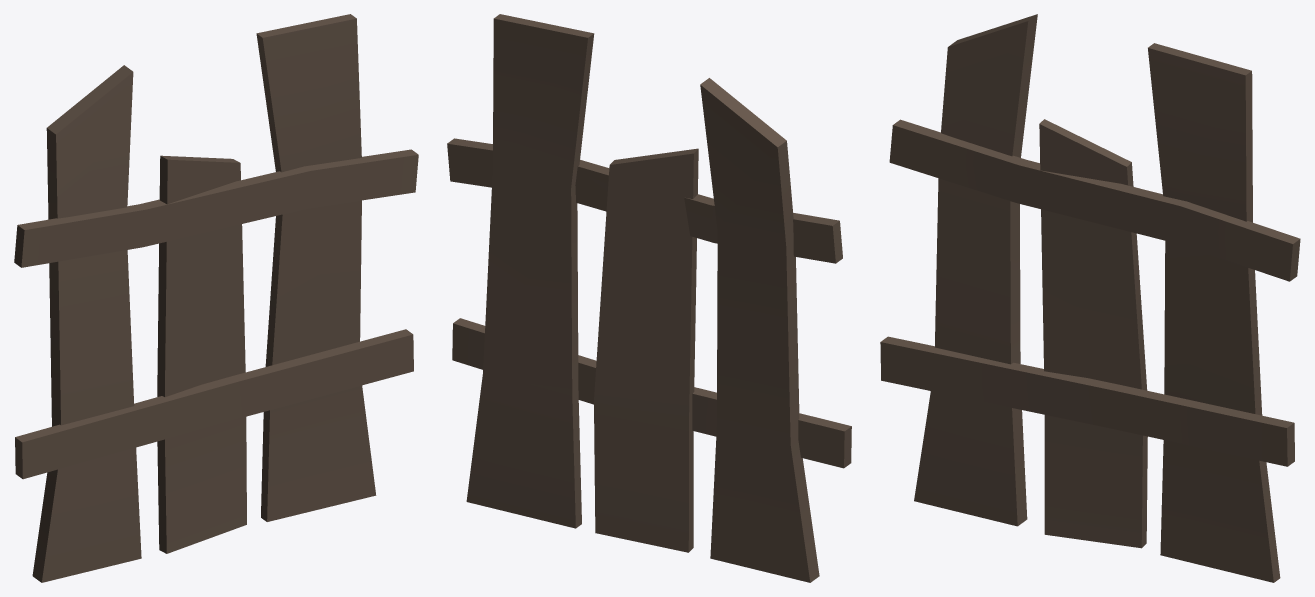
The model's file is Fence_V01.fbx.
The picture shows the model from 3 angles, left to right: view 1: azimuth 30°, elevation 25°; view 2: azimuth 150°, elevation 25°; view 3: azimuth 330°, elevation 25°; orthographic projection. The views are drawn at different scales.
Parts seen in each view (by area): view 1: Fence_V01; view 2: Fence_V01; view 3: Fence_V01.
Part boxes in pixels (box(x1,y1,x2,y2)): Fence_V01: box(14, 14, 418, 582); Fence_V01: box(447, 14, 851, 582); Fence_V01: box(880, 14, 1300, 582).
Size of the model in its own units: 2.04 by 2.41 by 0.2205.
